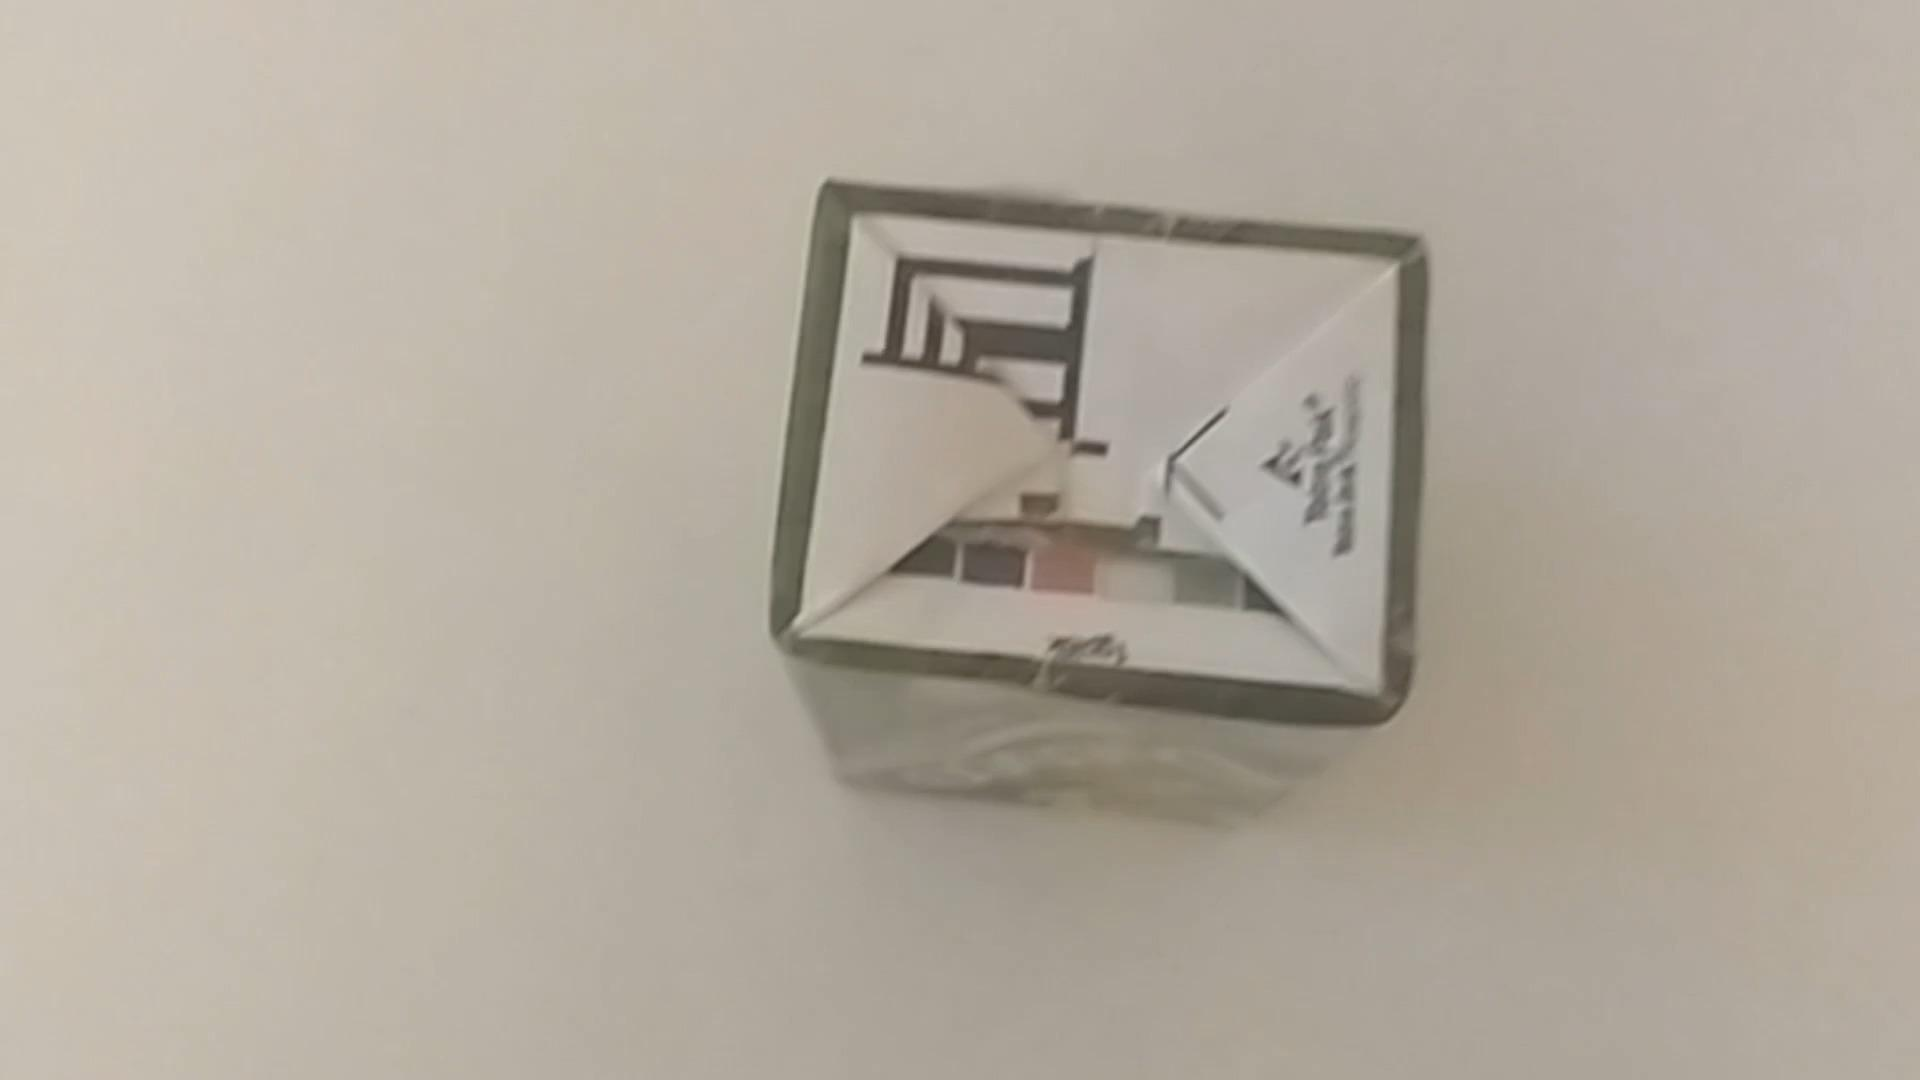coco: (762, 175, 1452, 848)
